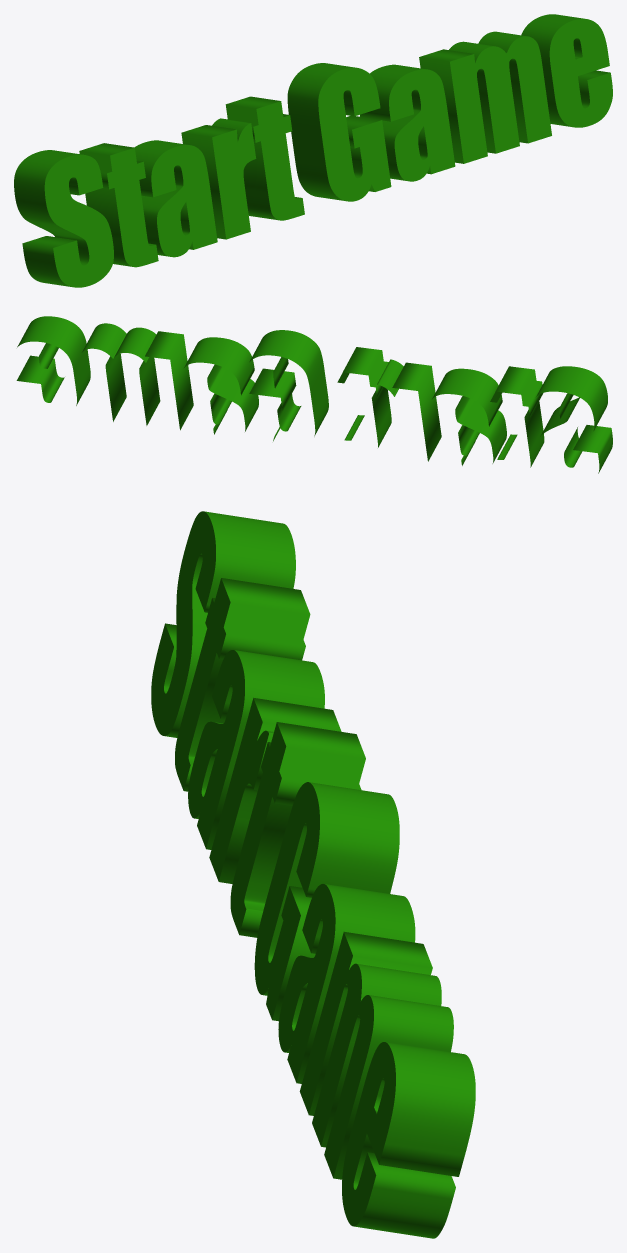
Rendered from intro_button.glb.
3 renders of one model, top to bottom at view 1: azimuth 30°, elevation 25°; view 2: azimuth 150°, elevation 25°; view 3: azimuth 270°, elevation 25°, orthographic. The views are drawn at different scales.
Visible parts, largest first — view 1: Text.002; view 2: Text.002; view 3: Text.002.
Boxes of the visible parts, x1,y1,x2,y2 form: Text.002: [14, 14, 612, 287]; Text.002: [16, 316, 612, 473]; Text.002: [151, 511, 475, 1238].
Bounding box in the file's own units: 0.8065 × 0.1789 × 0.2115.
